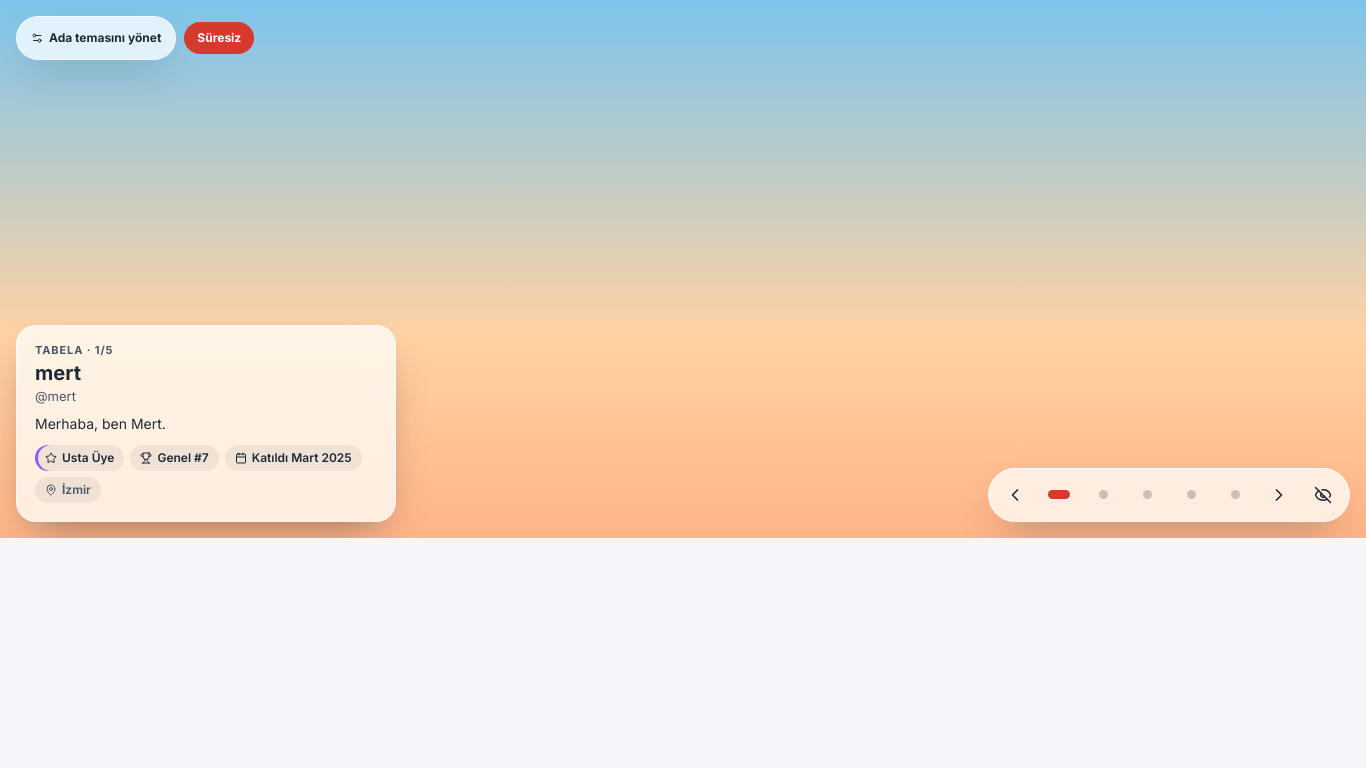
ProfileIslandHero — gizlilik › gizli hesabın sahibi kendi profilinde içeriği görür
Click the button named "Sonraki durak". click: (1279,495)
box: [1257, 473, 1301, 517]
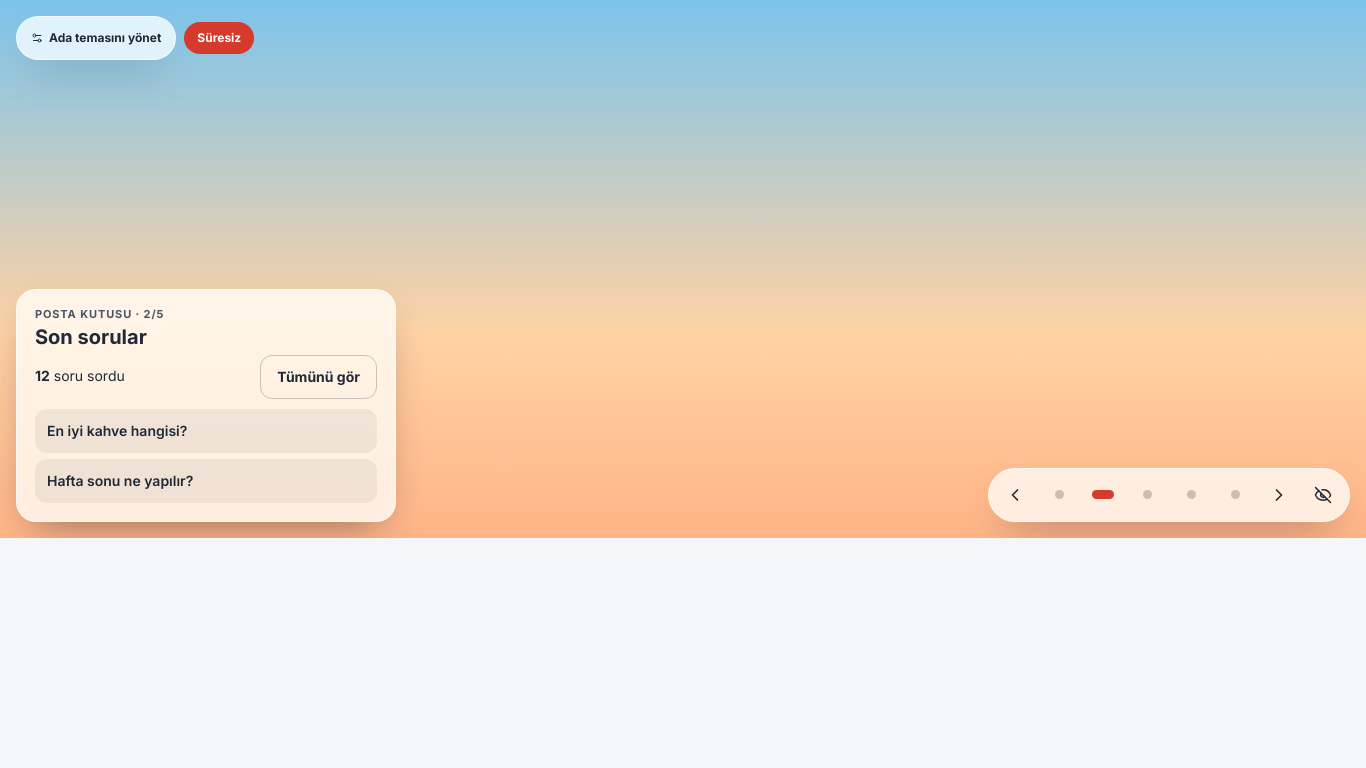
Check: the text "En iyi kahve hangisi?" is shown, box [47, 422, 187, 440]
